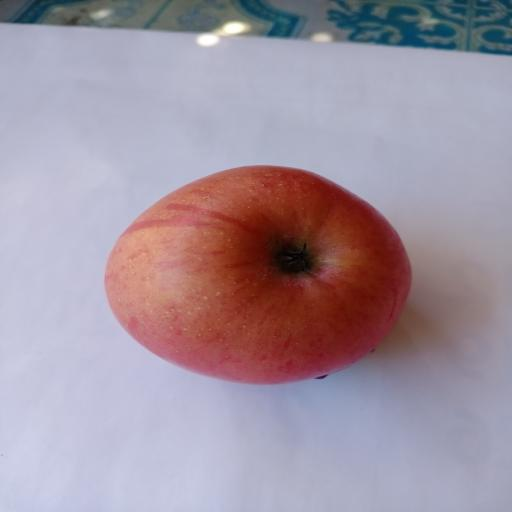apple-ripe: (89, 153, 419, 394)
